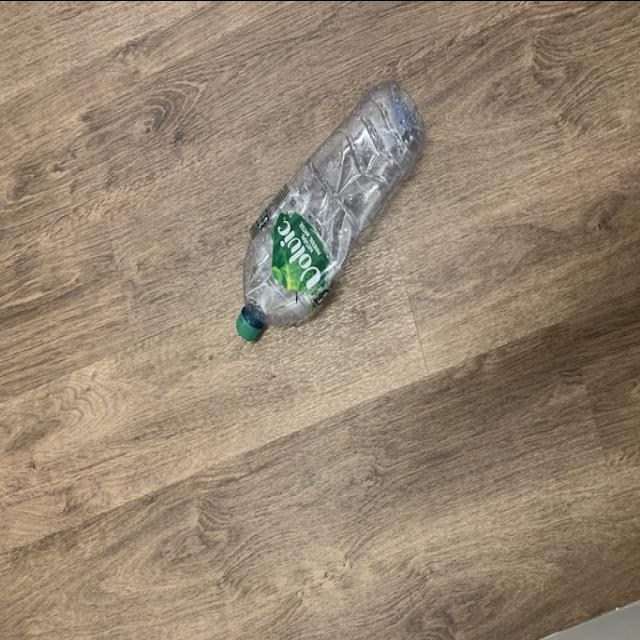PET: (233, 78, 427, 350)
